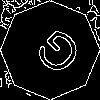G: (25, 25, 85, 85)
